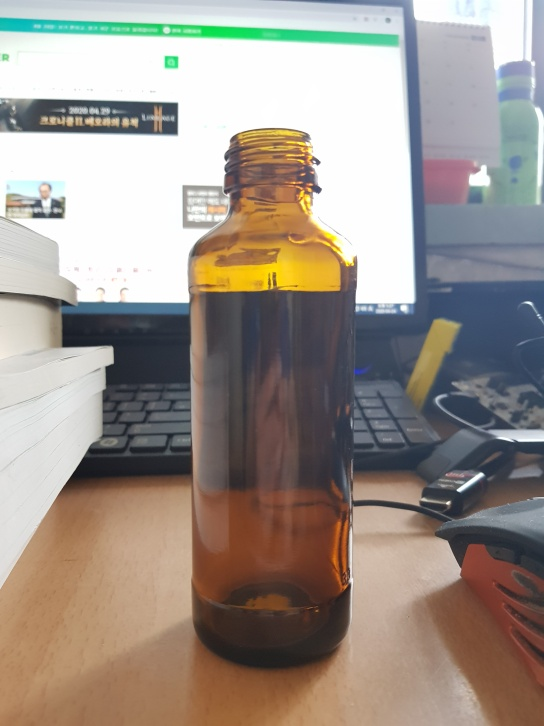Glass: (185, 129, 358, 672)
